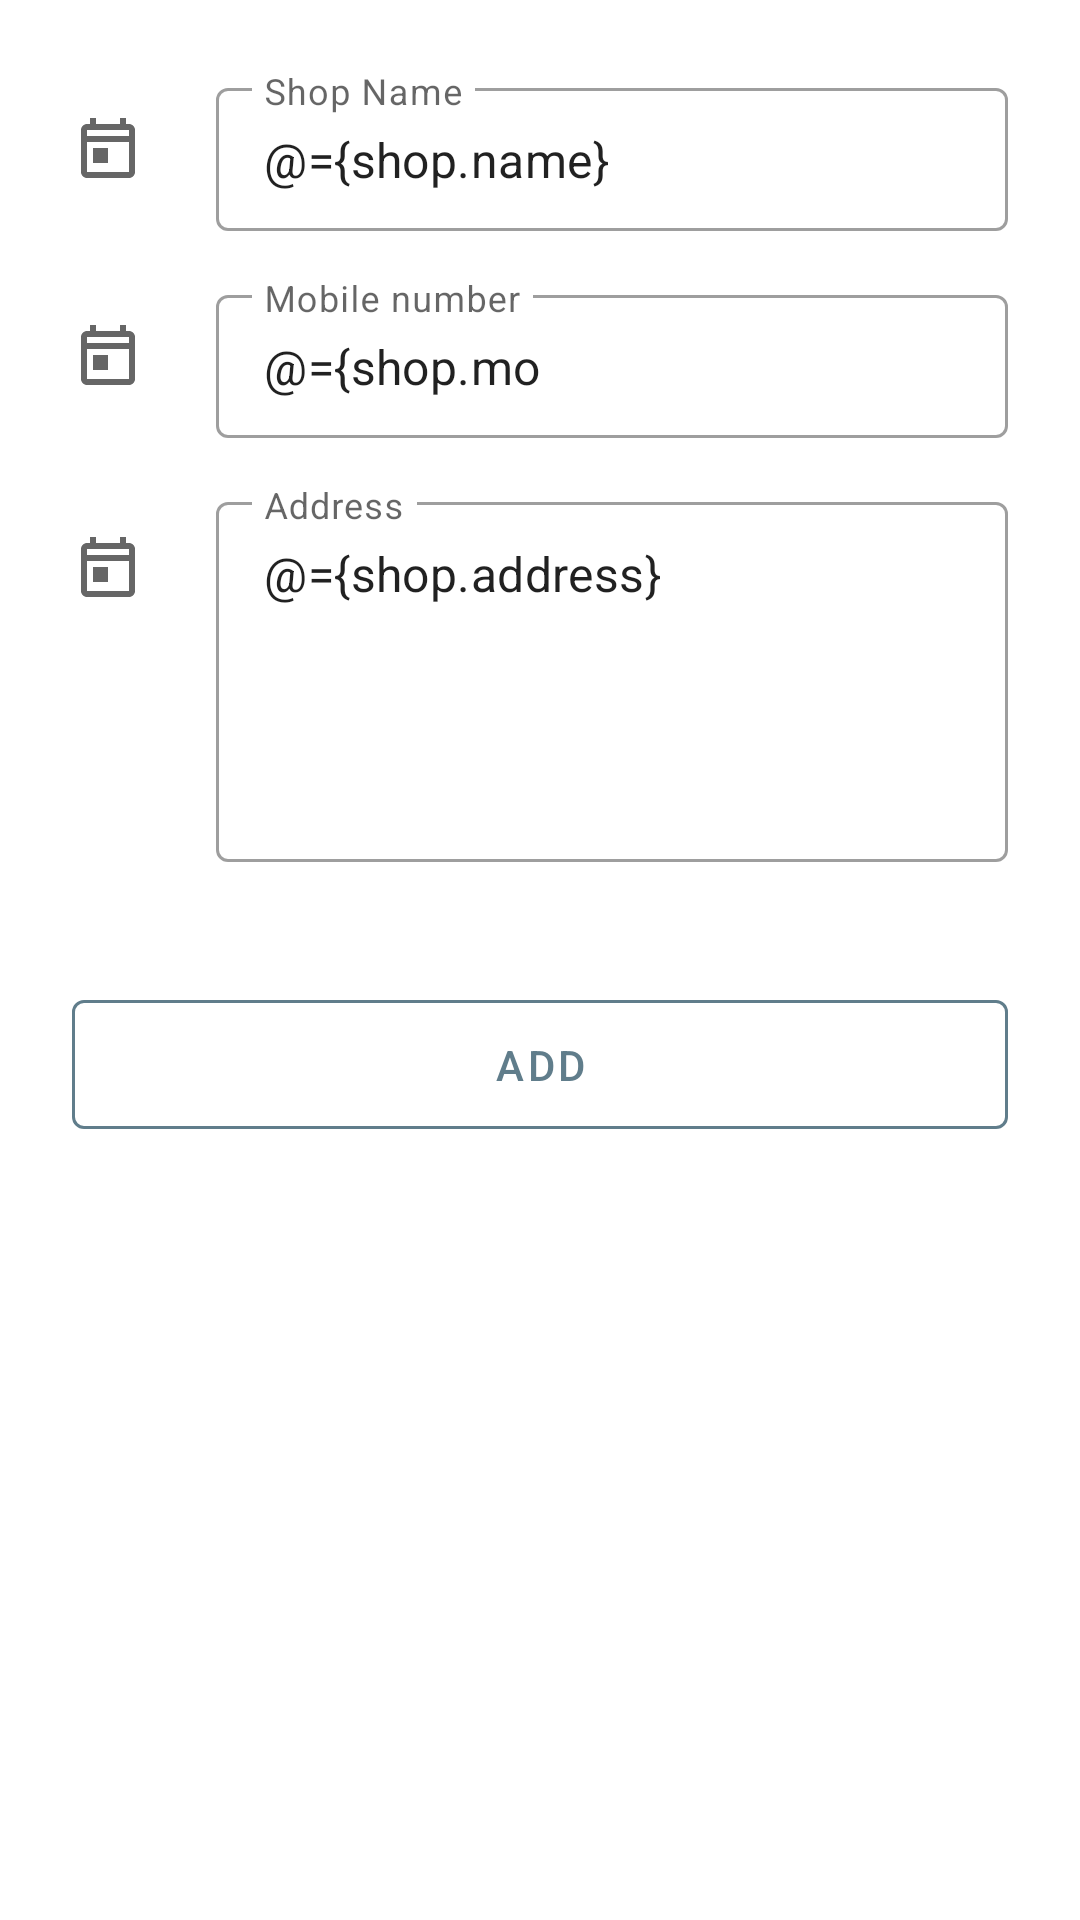

Icon bounding boxes for this 1080px×1920px phone screenshot, format box(x1, y1, x2, y2):
today: box(81, 118, 135, 178), box(81, 325, 135, 385), box(81, 537, 135, 597)
